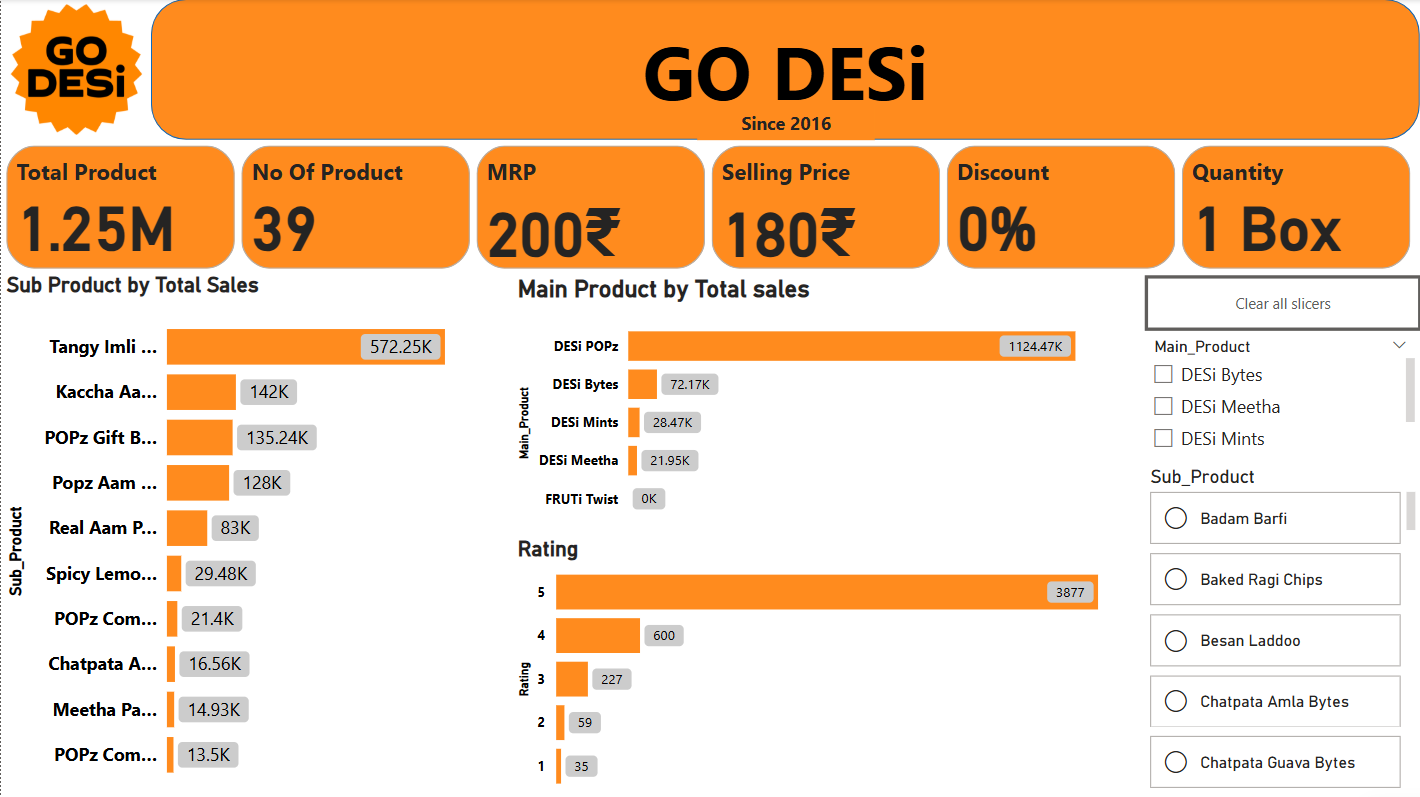

Layout of this report page (visuals, bound fields, positions):
{"tool":"powerbi","page":{"name":"Page 1","canvas":[1280,720],"ordinal":0},"visuals":[{"type":"clusteredBarChart","title":"Rating","fields":{"Y":["go_desi reviews_dataset.Sum"],"Category":["go_desi reviews_dataset.Rating"]},"box":[461,484.2,566.2,236],"z":0},{"type":"image","box":[0,0,135.7,127.2],"z":1000},{"type":"shape","box":[135.6,0,1144.1,127],"z":2000},{"type":"textbox","box":[627.3,95.4,160.2,31.8],"z":3000},{"type":"cardVisual","fields":{"Data":["go_desi product.Sum_of_sales","CountNonNull(go_desi total_sales.MRP_Sales)","Min(go_desi product.Rs)","Min(go_desi product.Dis_Prise)","Min(go_desi product.Dis)","Min(go_desi product.Quantity)"]},"box":[0,127.2,1280.3,121.1],"z":4000},{"type":"slicer","fields":{"Values":["go_desi product.Main_Product"]},"box":[1027.2,299.6,253.1,121.1],"z":5000},{"type":"listSlicer","fields":{"Values":["go_desi product.Sub_Product"]},"box":[1030.8,420.7,249.5,299.6],"z":6000},{"type":"clusteredBarChart","title":"Main Product by Total sales","fields":{"Category":["go_desi product.Main_Product"],"Y":["go_desi product.Sum_of_sales"]},"box":[461,249.5,566.2,234.8],"z":7000},{"type":"clusteredBarChart","title":"Sub Product by Total Sales","fields":{"Y":["go_desi product.Sum_of_sales"],"Category":["go_desi product.Sub_Product"]},"box":[0,247.1,460.4,472.9],"z":8000},{"type":"actionButton","box":[1030.8,249.5,249.5,50.1],"z":9000}]}

Visuals, with their boxes in screenshot pixels (x1, y1, x2, y2), scaled from the page's 1280x720 canvas onto the 1420x797 screenshot:
"Rating" clusteredBarChart: detection(511, 536, 1140, 796)
image: detection(0, 0, 151, 141)
shape: detection(150, 0, 1419, 141)
textbox: detection(696, 106, 874, 141)
cardVisual - go_desi product.Sum_of_sales x CountNonNull(go_desi total_sales.MRP_Sales): detection(0, 141, 1419, 275)
slicer - go_desi product.Main_Product: detection(1140, 332, 1419, 466)
listSlicer - go_desi product.Sub_Product: detection(1144, 466, 1419, 796)
"Main Product by Total sales" clusteredBarChart: detection(511, 276, 1140, 536)
"Sub Product by Total Sales" clusteredBarChart: detection(0, 274, 511, 796)
actionButton: detection(1144, 276, 1419, 332)
